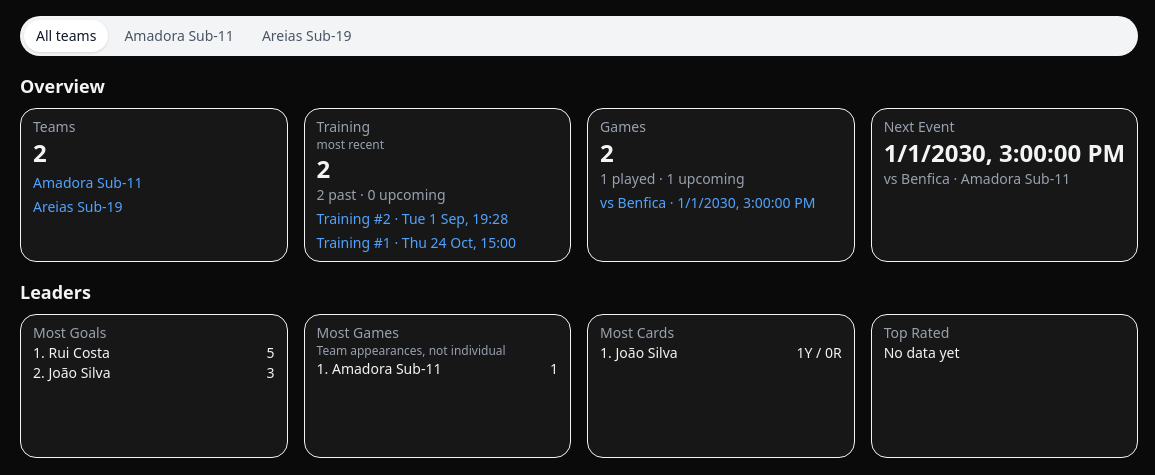
Test: clicking a team row navigates to /teams?team=<id> with that team selected on arrival (AC DTILE-03.1)
The width and height of the screenshot is (1155, 475).
Expected: the text "Teams" is shown, [33,117,75,136]
Click the link "Amadora Sub-11" at (88, 182), box [33,173,142,192]
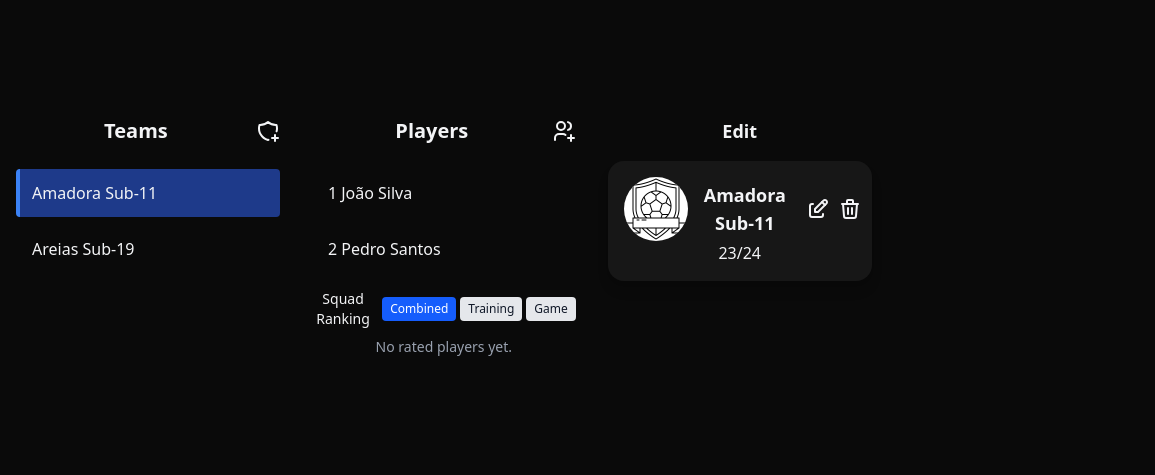
Expected: the heading "Teams" is shown, [104,117,168,144]
Expected: the button "1 João Silva" is shown, [312,169,576,217]
